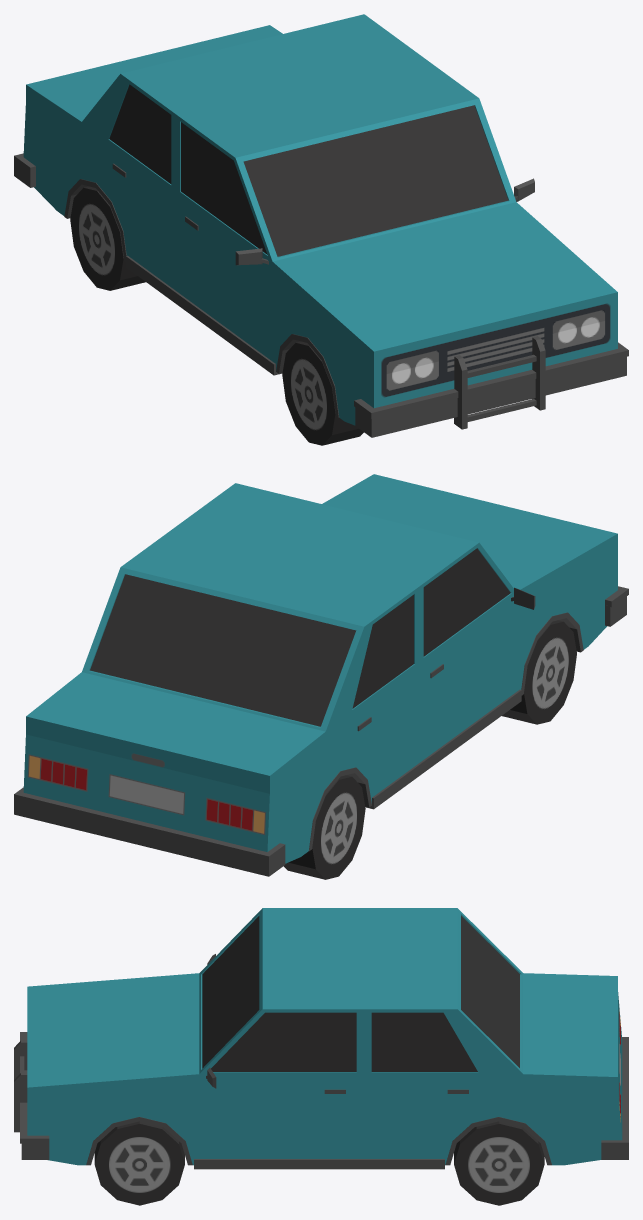
File: car_v1.glb
3 views of the same model, one above another, from view 1: azimuth 30°, elevation 25°; view 2: azimuth 150°, elevation 25°; view 3: azimuth 270°, elevation 25° (orthographic). The views are drawn at different scales.
Visible parts, largest first — view 1: Body, FR, RR; view 2: Body, RR, FR; view 3: Body, RL, FL.
Part boxes in pixels (left/top/right/bottom): Body: left=14, top=14, right=628, bottom=437; FR: left=282, top=341, right=363, bottom=445; RR: left=70, top=186, right=145, bottom=290; Body: left=14, top=474, right=628, bottom=876; RR: left=283, top=775, right=365, bottom=879; FR: left=502, top=620, right=576, bottom=724; Body: left=14, top=908, right=628, bottom=1169; RL: left=454, top=1121, right=544, bottom=1205; FL: left=94, top=1121, right=184, bottom=1205.
Bounding box in the file's own units: 3.06 × 2.27 × 6.43.
Materials: 1 (1 with a texture image).
